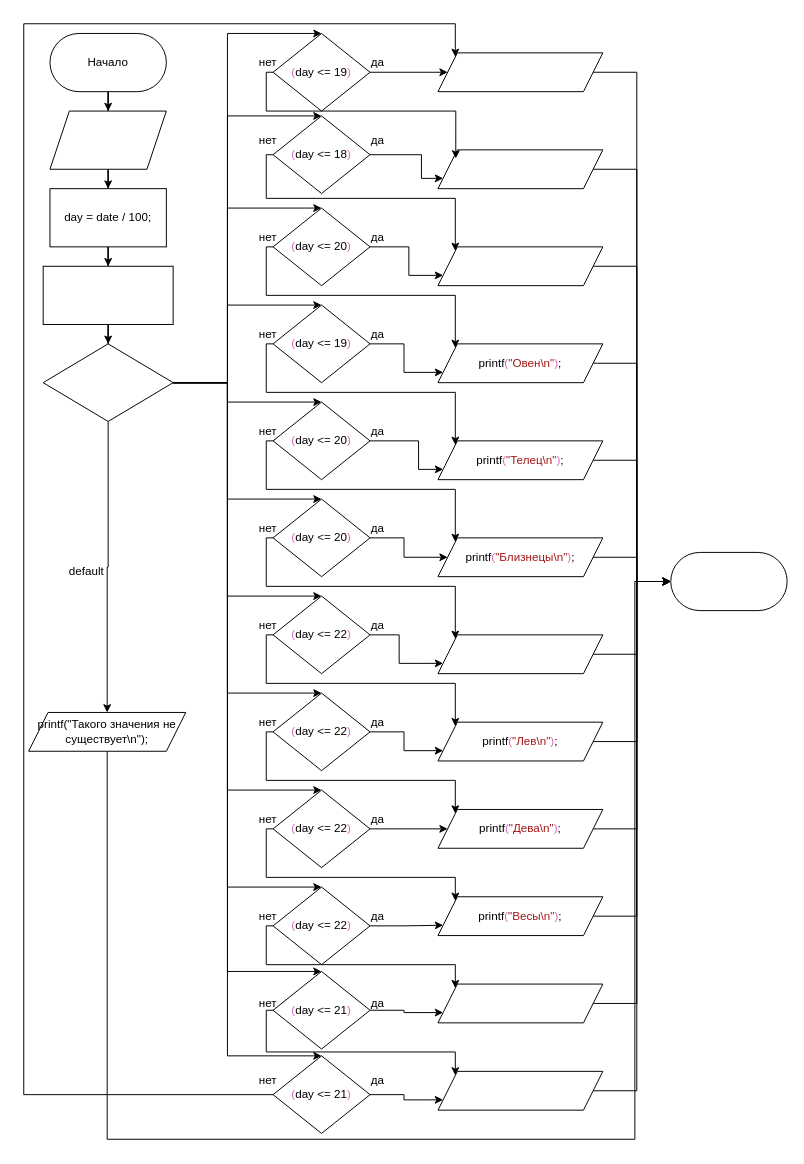
Some shapes in this 804 by 1164 pixel diagram are drawn without their labels. The shapes that lost their labels are listed below. From the top down, each one's centre as x and y in pixels, then its label:
(520,72): printf ( "Козерог\n" ) ;
(107,139): scanf("%d", &date);
(520,169): printf ( "Водолей\n" ) ;
(520,266): printf ( "Рыбы\n" ) ;
(107,294): month = date % 100;
(107,382): switch ( month )
(728,581): Конец
(520,654): printf ( "Рак\n" ) ;
(520,1003): printf ( "Скорпион\n" ) ;
(520,1090): printf ( "Стрелец\n" ) ;
